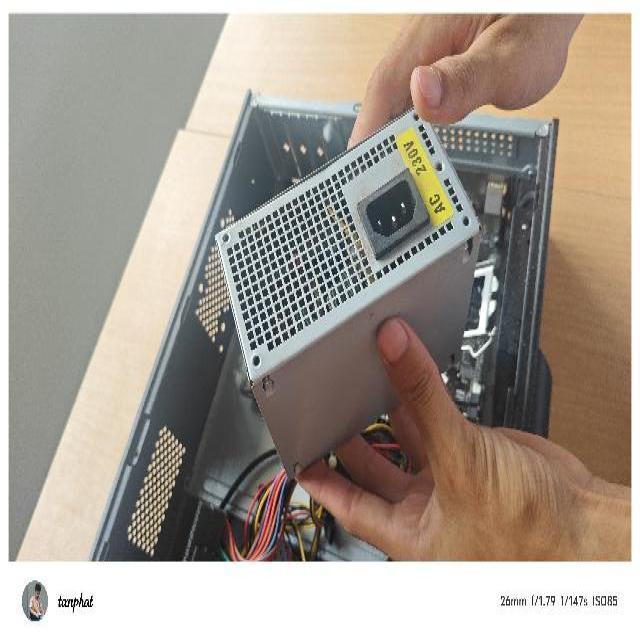PSU: (212, 99, 484, 480)
